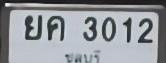0: (101, 16, 115, 41)
1: (122, 16, 131, 42)
2: (137, 17, 152, 42)
3: (82, 15, 96, 40)
A04: (46, 15, 64, 40)
A34: (24, 14, 42, 40)
